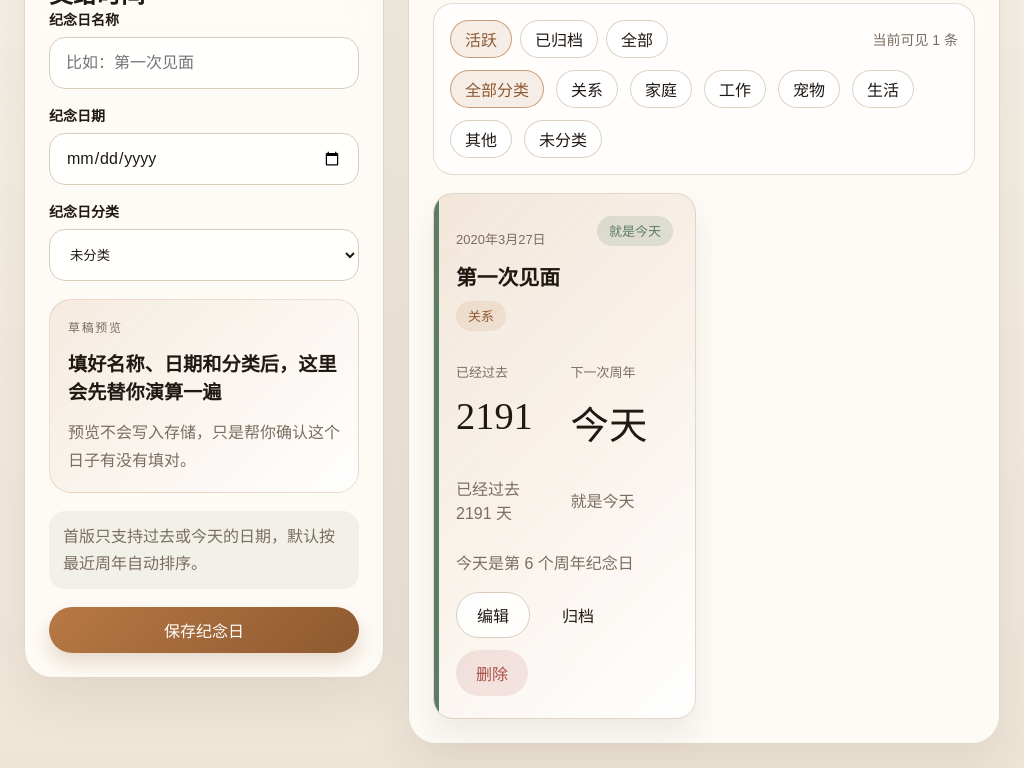
Scenario: AnniversaryList › 归档后记录从活跃视图消失并可在归档视图恢复
(page scrolled)
Click the button "归档".
click(578, 615)  # box [542,592,614,638]
(page scrolled)
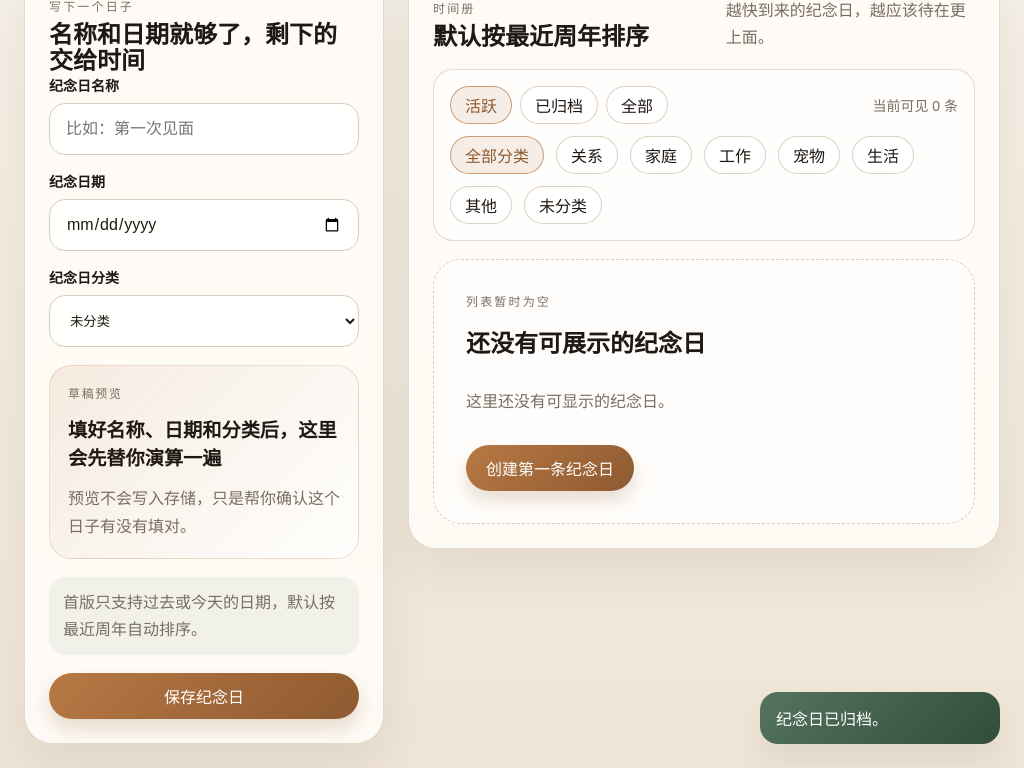
Result: the text "纪念日已归档。" is shown at [760,692,1000,744]
Click the button "已归档".
click(559, 105)  # box [520,86,598,124]
(page scrolled)
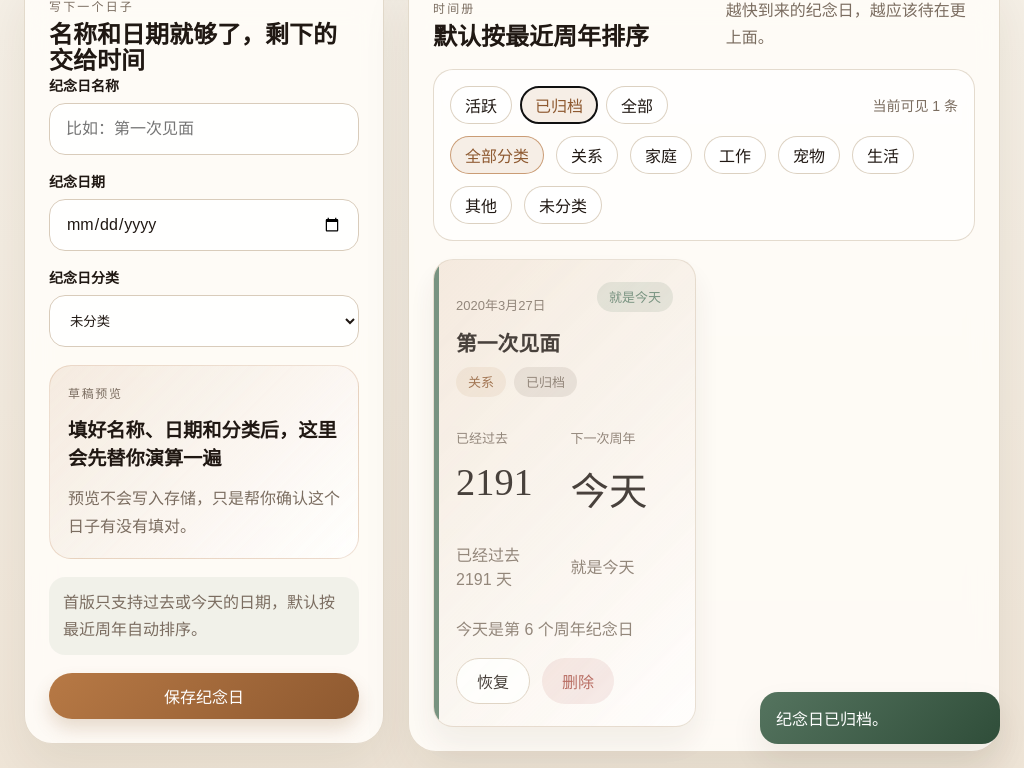
Result: the heading "第一次见面" is shown at [456,327,577,357]
Click the button "恢复".
click(493, 681)  # box [456,658,530,704]
(page scrolled)
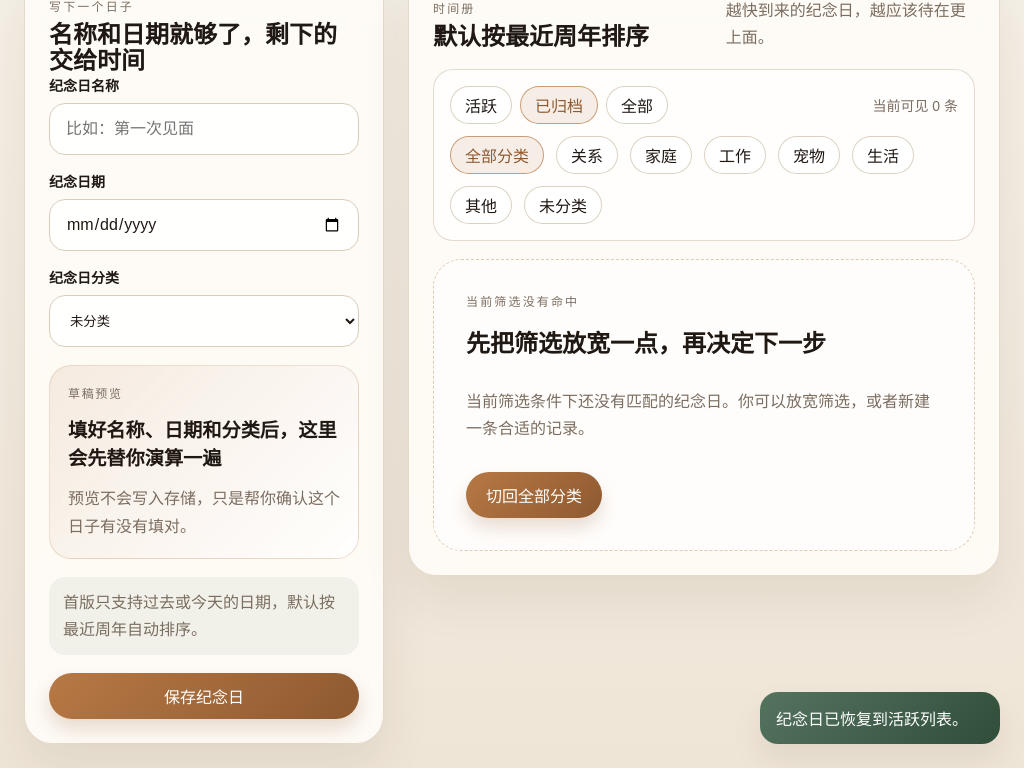
Click the button "活跃".
click(481, 105)  # box [450,86,512,124]
(page scrolled)
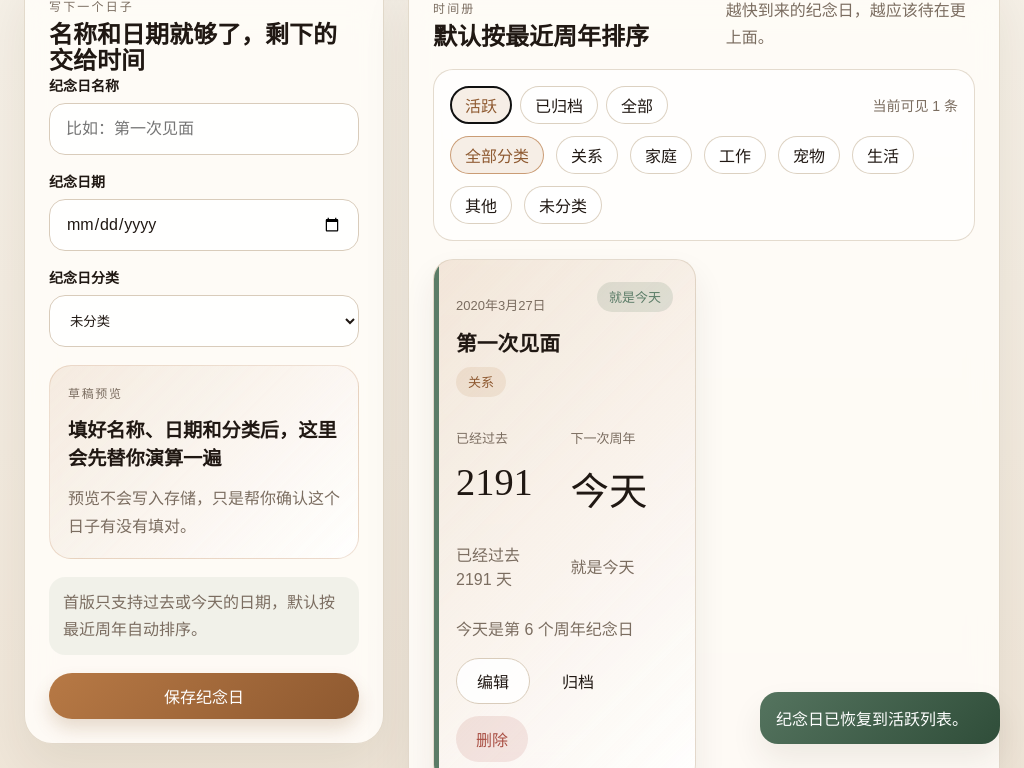
Result: the heading "第一次见面" is shown at [456,327,560,357]
